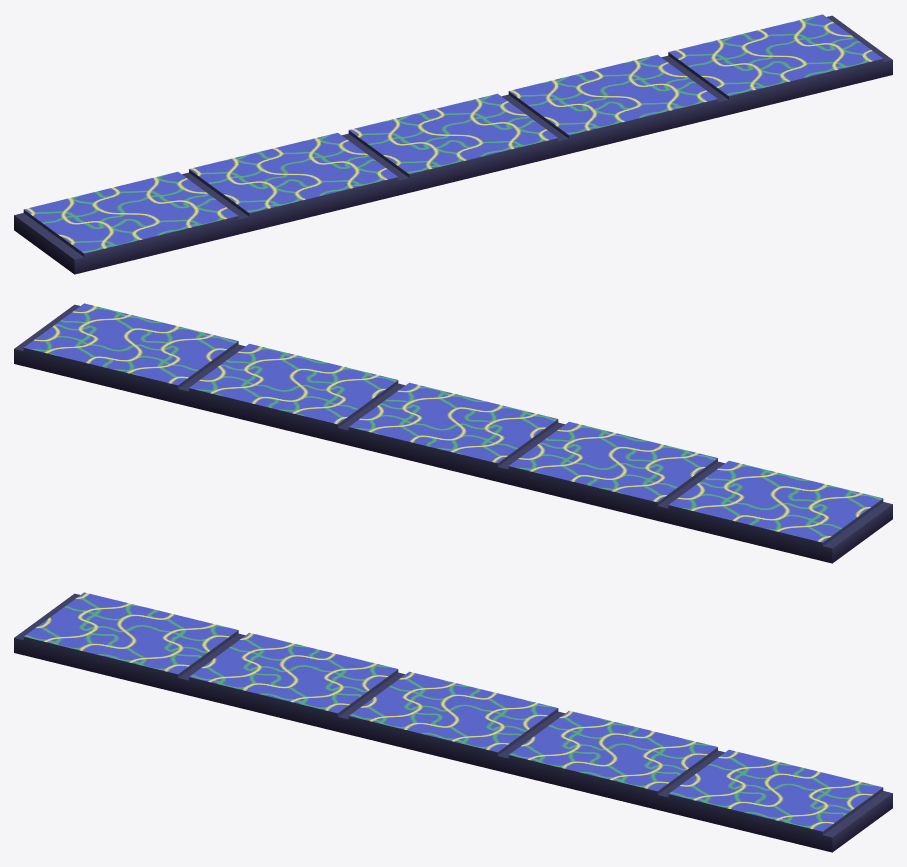
File: BaldosaSecreta.fbx
The picture shows the model from 3 angles, top to bottom: view 1: azimuth 30°, elevation 25°; view 2: azimuth 150°, elevation 25°; view 3: azimuth 330°, elevation 25°; orthographic projection.
Parts seen in each view (by area): view 1: BaldosaSecreta; view 2: BaldosaSecreta; view 3: BaldosaSecreta.
Part boxes in pixels (bbox=[...]): BaldosaSecreta: bbox=[14, 14, 892, 274]; BaldosaSecreta: bbox=[14, 303, 892, 563]; BaldosaSecreta: bbox=[14, 592, 892, 852].
Bounding box in the file's own units: 1500 × 32.47 × 192.
